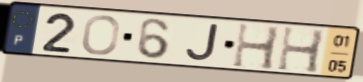2: (38, 9, 81, 55)
6: (135, 17, 174, 62)
H: (230, 21, 284, 73), (275, 24, 328, 76)
J: (184, 23, 221, 64)
O: (80, 14, 123, 57)
